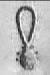W19: (5, 1, 46, 74)
